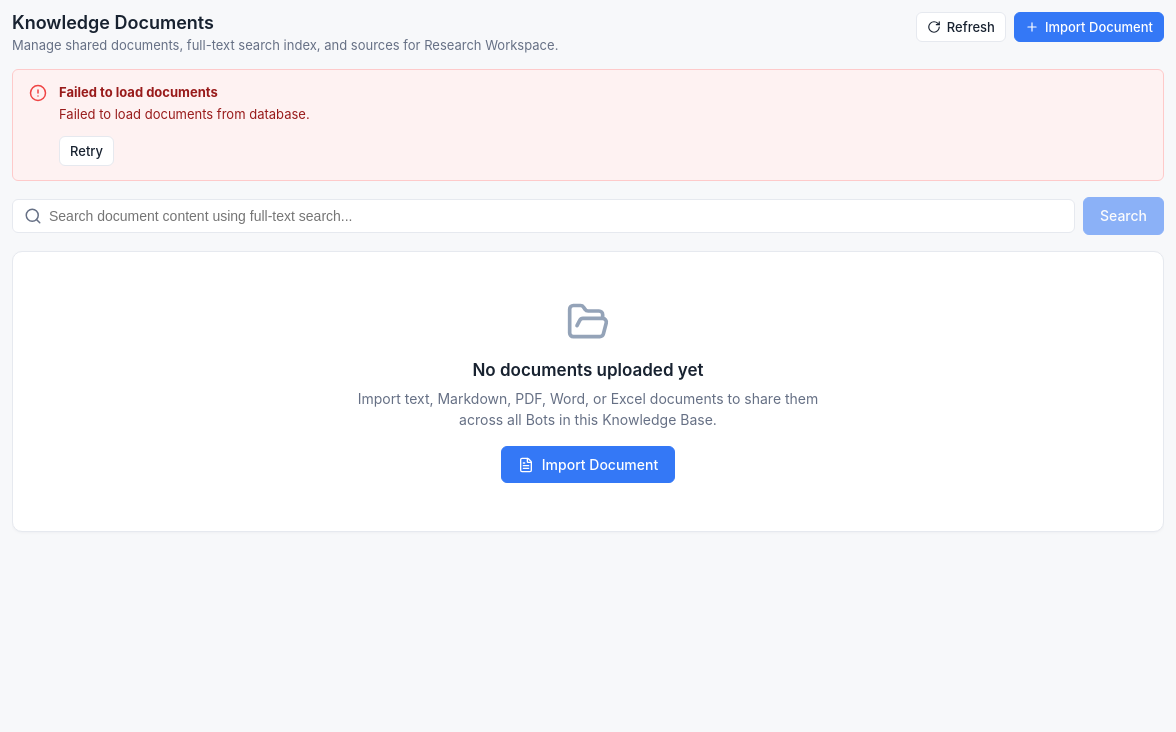
Test: WorkspaceKnowledgeTab (Phase 5 Step 5.11) › 1. Navigation, Loading & Empty State › renders error state with retry button when list fails
The image size is (1176, 732).
Check: the message "Failed to load documents Failed to load documents from database. Retry" is shown, box 12,69 -> 1164,181
Check: the text "Failed to load documents from database." is shown, box 59,106 -> 310,122
Click the button with test id "btn-retry-docs".
click(86, 151)  # box 59,136 -> 114,166
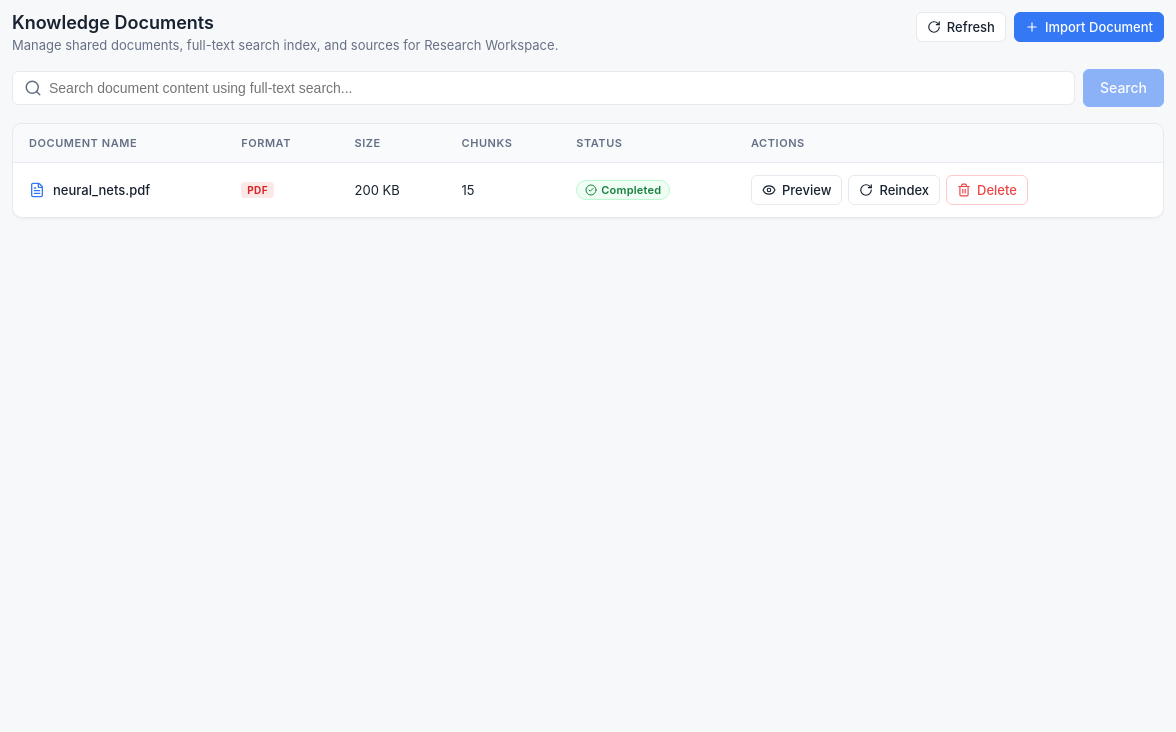
Check: the text "neural_nets.pdf" is shown, box 53,182 -> 150,198
